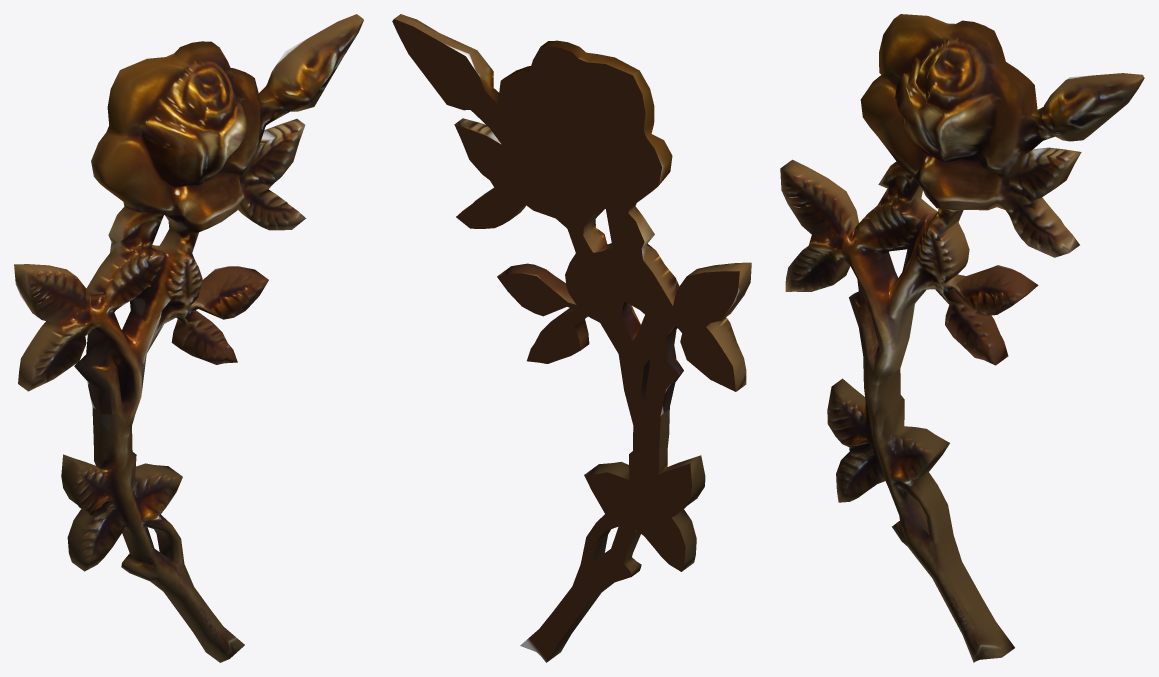
The model's file is Art2650.fbx.
3 views of the same model, side by side, from view 1: azimuth 30°, elevation 25°; view 2: azimuth 150°, elevation 25°; view 3: azimuth 330°, elevation 25° (orthographic). The views are drawn at different scales.
Visible parts, largest first — view 1: Mesh_2; view 2: Mesh_2; view 3: Mesh_2.
Boxes of the visible parts, x1,y1,x2,y2 form: Mesh_2: (14, 14, 363, 662); Mesh_2: (392, 14, 751, 662); Mesh_2: (780, 14, 1144, 662).
Size of the model in its own units: 11.98 by 20.37 by 2.12.
Materials: 1 (1 with a texture image).
